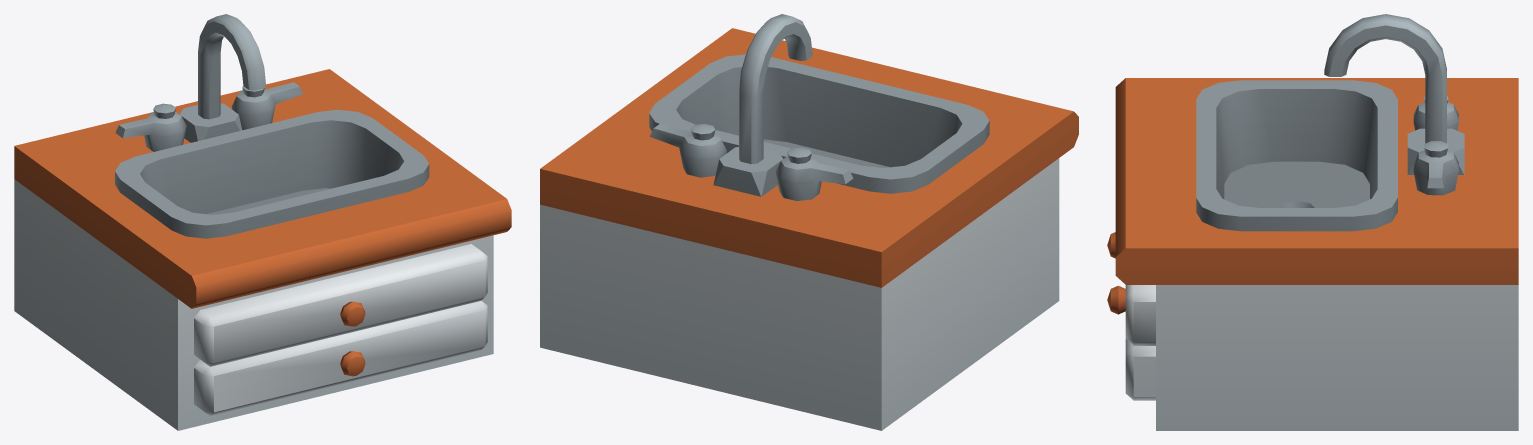
Rendered from kay-kitchencounter_sink.glb.
3 renders of one model, left to right at view 1: azimuth 30°, elevation 25°; view 2: azimuth 150°, elevation 25°; view 3: azimuth 270°, elevation 25°, orthographic. The views are drawn at different scales.
Parts seen in each view (by area): view 1: kitchencounter_sink; view 2: kitchencounter_sink; view 3: kitchencounter_sink.
Part boxes in pixels (left/top/right/bottom): kitchencounter_sink: left=14, top=14, right=511, bottom=430; kitchencounter_sink: left=540, top=14, right=1078, bottom=430; kitchencounter_sink: left=1107, top=14, right=1518, bottom=430.
Bounding box in the file's own units: 1.18 × 1.06 × 1.2.
1 material, 1 textured.
